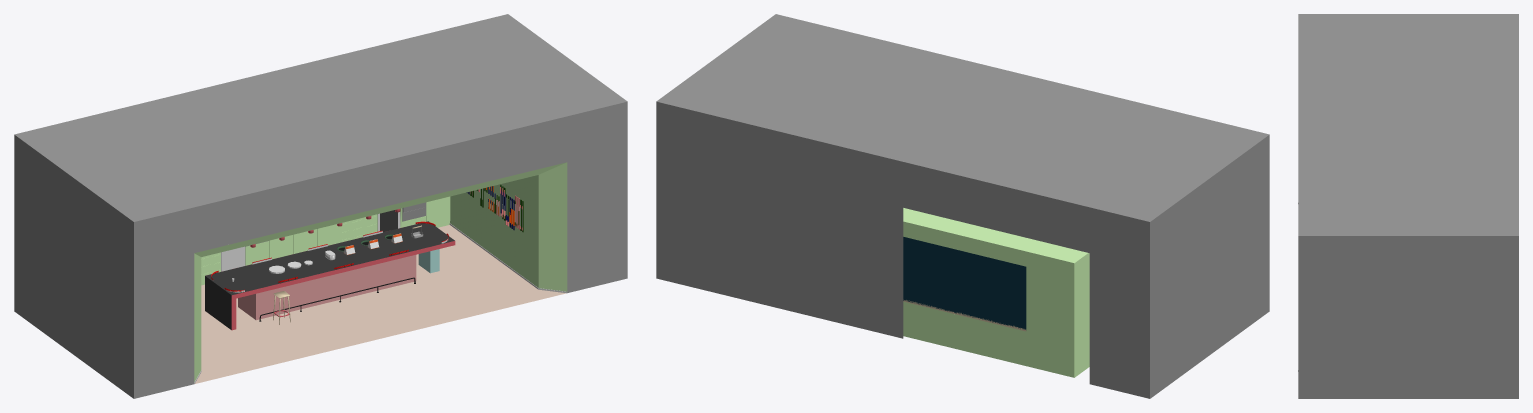
Rendered from ul-kitchen23.gltf.
3 views of the same model, side by side, from view 1: azimuth 30°, elevation 25°; view 2: azimuth 150°, elevation 25°; view 3: azimuth 270°, elevation 25° (orthographic). The views are drawn at different scales.
Visible parts, largest first — view 1: concreteWalls, floor, mainGreenWall, mainTablePlate, mainTableBase, closetDoors, mainTableSidePannels, mainTableSidePlane; view 2: concreteWalls, mainGreenWall, MainNishBackWall; view 3: concreteWalls.
Part boxes in pixels (<box>): concreteWalls: <box>14,14,627,398</box>; floor: <box>195,225,565,383</box>; mainGreenWall: <box>194,162,567,381</box>; mainTablePlate: <box>205,221,454,295</box>; mainTableBase: <box>238,255,416,320</box>; closetDoors: <box>201,196,450,281</box>; mainTableSidePannels: <box>231,241,455,330</box>; mainTableSidePlane: <box>205,276,231,329</box>; concreteWalls: <box>656,14,1269,398</box>; mainGreenWall: <box>903,208,1089,377</box>; MainNishBackWall: <box>903,237,1026,329</box>; concreteWalls: <box>1298,14,1518,398</box>.
Bounding box in the file's own units: 208 × 71.34 × 87.55.
